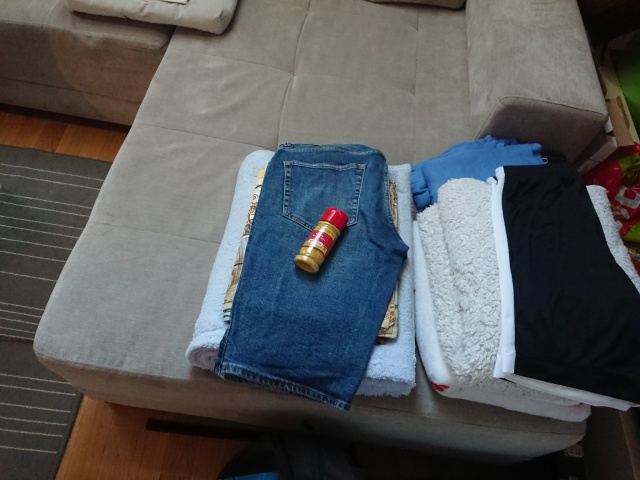Kotanyi Curry Spices Mix 70g: (291, 205, 349, 277)
